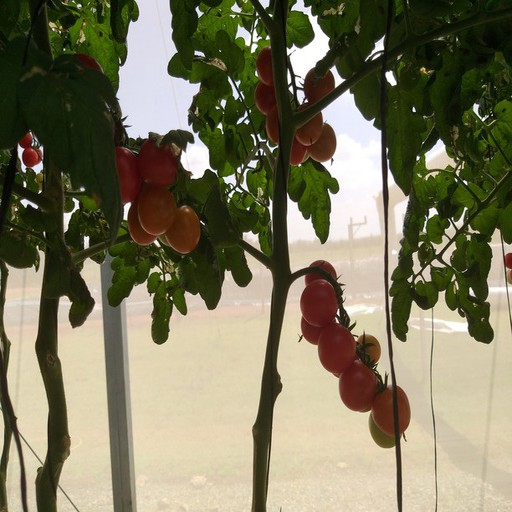red tomato bunch: (57, 52, 200, 253), (299, 259, 412, 449), (257, 48, 335, 168), (16, 128, 43, 168)
